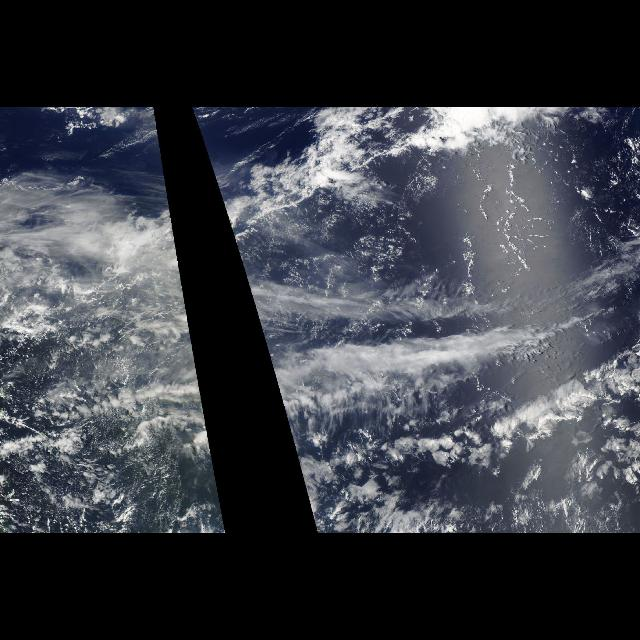Flower: (377, 388, 638, 476)
Gravel: (3, 350, 191, 528)
Sugar: (216, 148, 532, 236)
